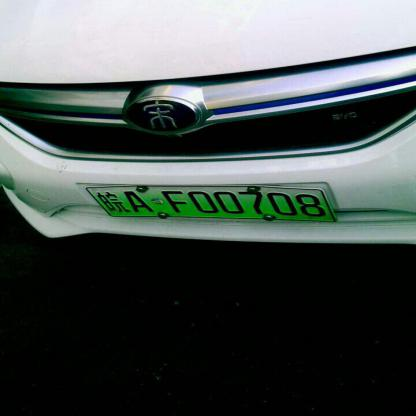lp: (87, 187, 335, 220)
